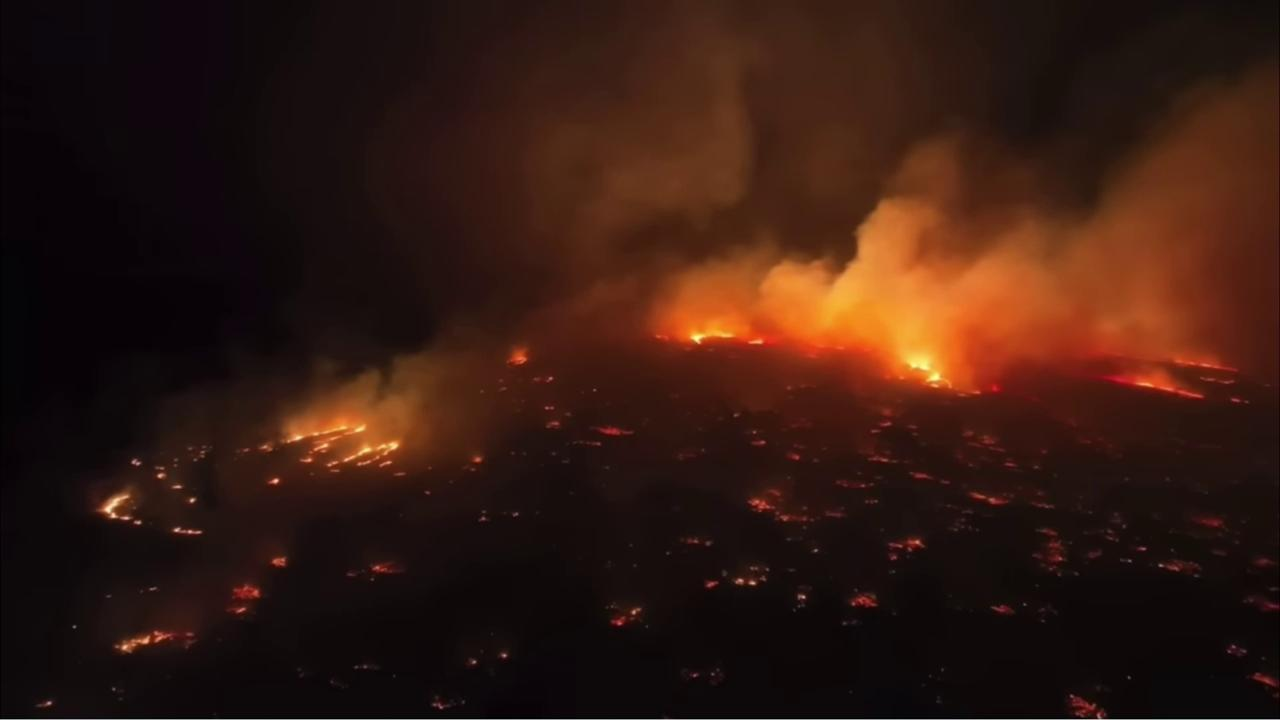fire: (258, 424, 400, 478), (1077, 372, 1205, 407), (110, 626, 201, 662), (955, 426, 1023, 472), (744, 486, 810, 525), (1030, 522, 1070, 578), (95, 489, 146, 528), (901, 355, 952, 393), (224, 580, 263, 621), (882, 534, 932, 564), (1063, 691, 1110, 720), (731, 560, 772, 589), (606, 601, 650, 628), (1171, 357, 1242, 372), (1157, 557, 1204, 578), (1248, 670, 1280, 697), (845, 589, 882, 611), (962, 490, 1013, 505), (689, 330, 738, 345), (1242, 594, 1280, 613), (368, 558, 407, 576), (427, 694, 466, 712), (906, 470, 951, 485), (592, 423, 636, 438), (678, 534, 717, 549), (1192, 511, 1227, 527), (983, 602, 1018, 617), (833, 477, 876, 489), (170, 526, 205, 540), (1249, 553, 1279, 569), (505, 353, 532, 368), (1197, 375, 1237, 385), (1227, 640, 1249, 657), (862, 453, 896, 464), (811, 343, 848, 353), (868, 420, 894, 434), (701, 576, 721, 594), (269, 555, 291, 571), (823, 508, 849, 521), (565, 440, 604, 448), (742, 336, 768, 348), (794, 587, 808, 604), (783, 450, 801, 462), (35, 699, 55, 709), (544, 420, 564, 430), (990, 382, 1006, 394), (654, 332, 673, 342), (535, 375, 555, 384), (749, 438, 768, 446), (267, 476, 283, 485), (168, 484, 186, 492), (130, 457, 144, 467), (543, 402, 557, 412), (154, 472, 169, 481), (1229, 398, 1251, 404), (499, 651, 510, 661), (472, 455, 484, 464), (466, 659, 479, 667), (187, 497, 198, 505), (241, 448, 251, 455)
smoke: (91, 0, 1280, 687)
